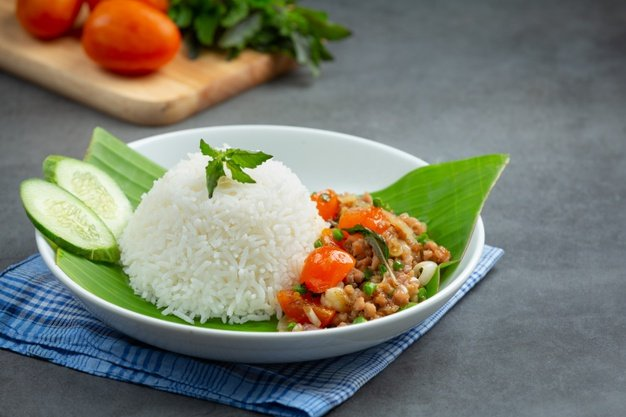Nasi Putih: (92, 126, 365, 340)
